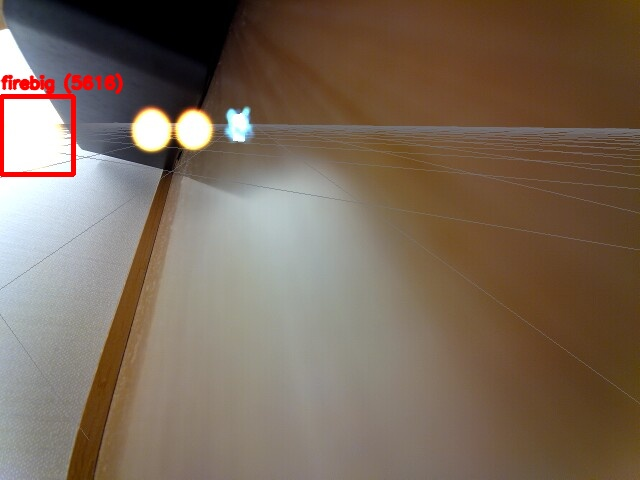firebig: (1, 96, 73, 174)
